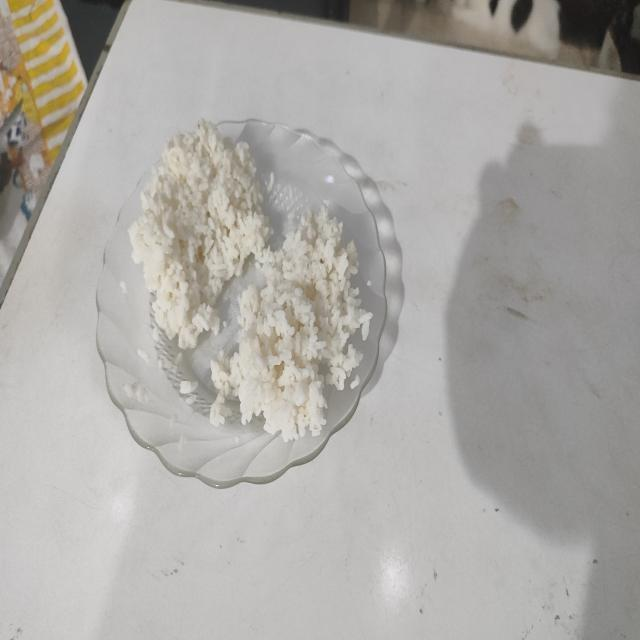nasi_putih: (210, 206, 372, 442), (128, 121, 272, 349)
